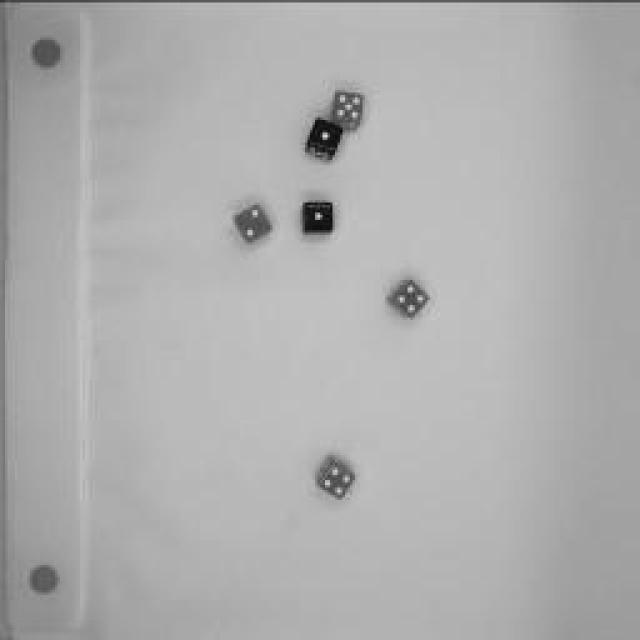dice_1: (303, 114, 345, 161), (300, 198, 338, 238)
dice_2: (231, 196, 279, 249)
dice_4: (383, 275, 435, 323), (312, 452, 360, 502)
dice_5: (329, 88, 369, 132)
